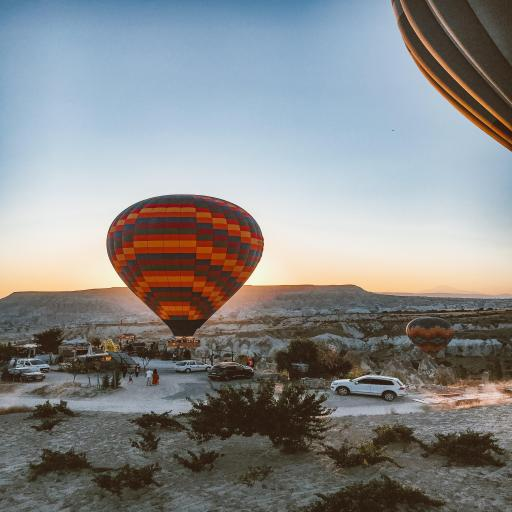hot air ballon: (107, 194, 264, 347)
